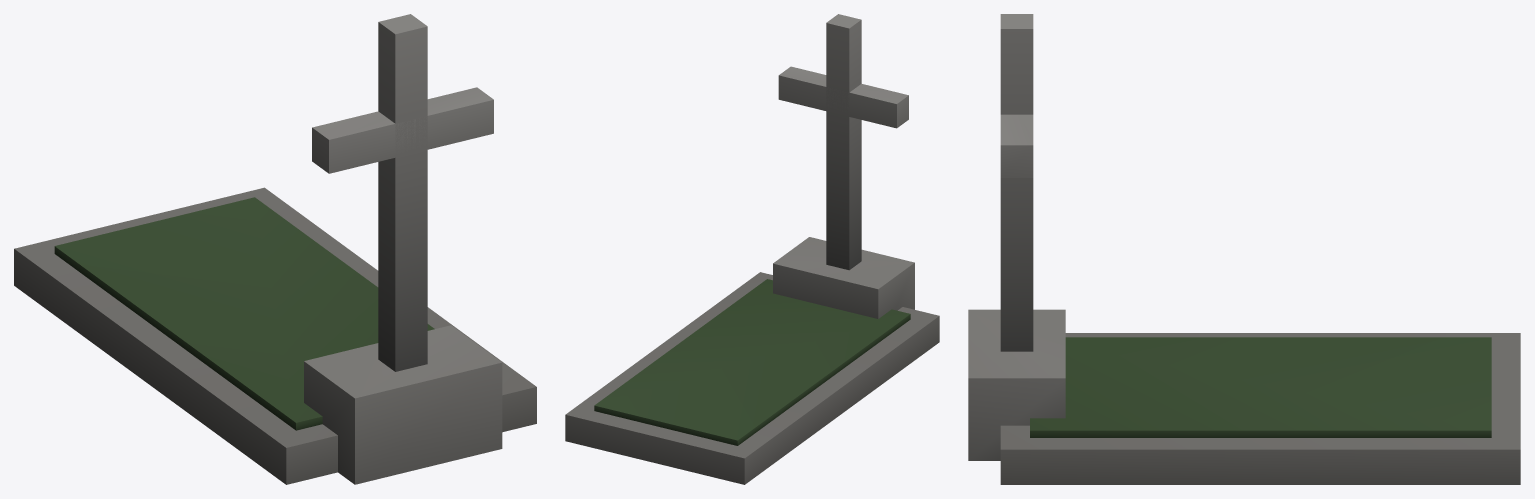
Rendered from grabkreuz.glb.
3 renders of one model, left to right at view 1: azimuth 30°, elevation 25°; view 2: azimuth 150°, elevation 25°; view 3: azimuth 270°, elevation 25°, orthographic. The views are drawn at different scales.
Visible parts, largest first — view 1: lack; view 2: lack; view 3: lack.
Boxes of the visible parts, x1=… form: lack: x1=14, y1=14, x2=536, y2=484; lack: x1=565, y1=14, x2=939, y2=484; lack: x1=968, y1=14, x2=1520, y2=484.
Size of the model in its own units: 0.8501 by 1.38 by 1.7.
